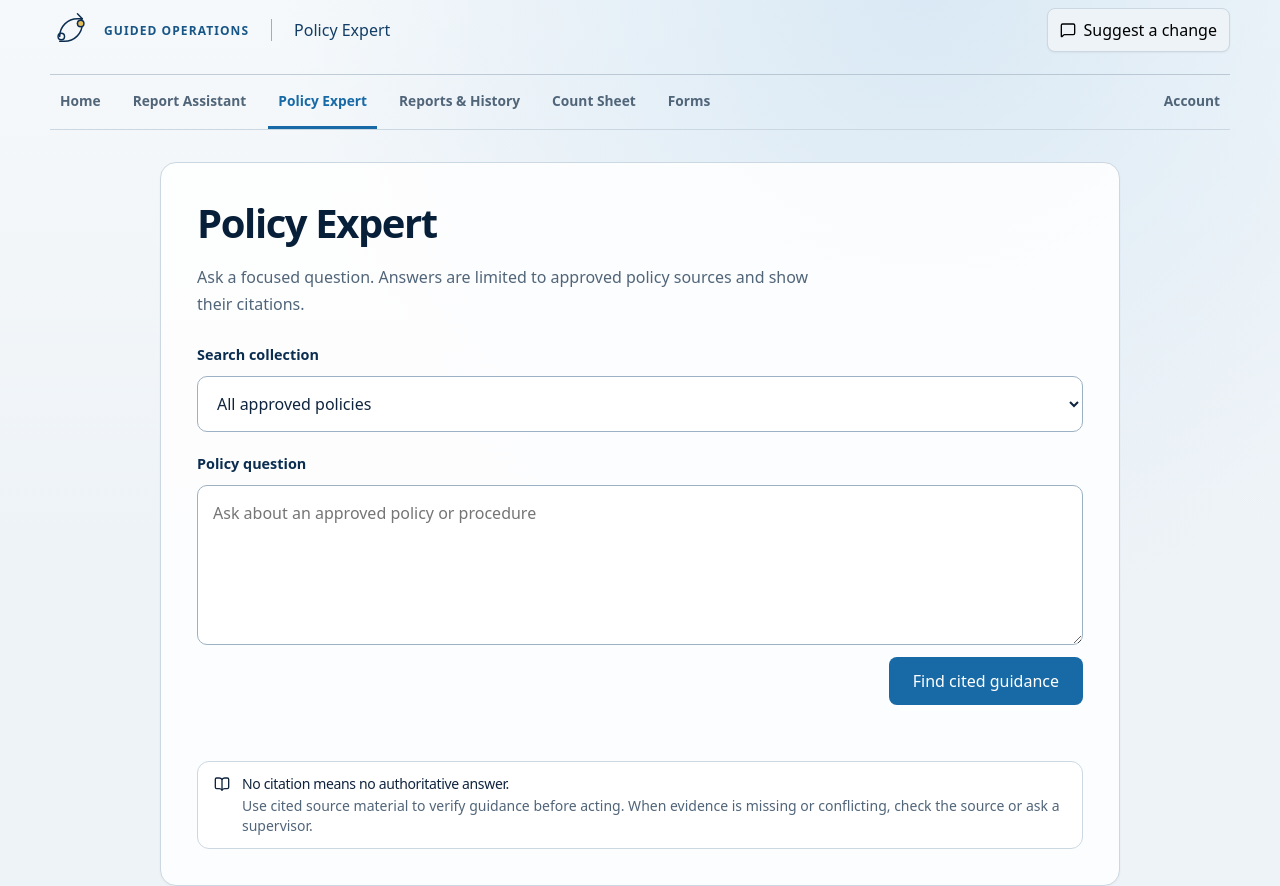
it: PolicyExpert › gets a session CSRF token before submitting a same-origin policy question
Type "What does the fictional policy require?" into the text box labelled "Policy question" at [640, 565], box [197,485,1083,645]
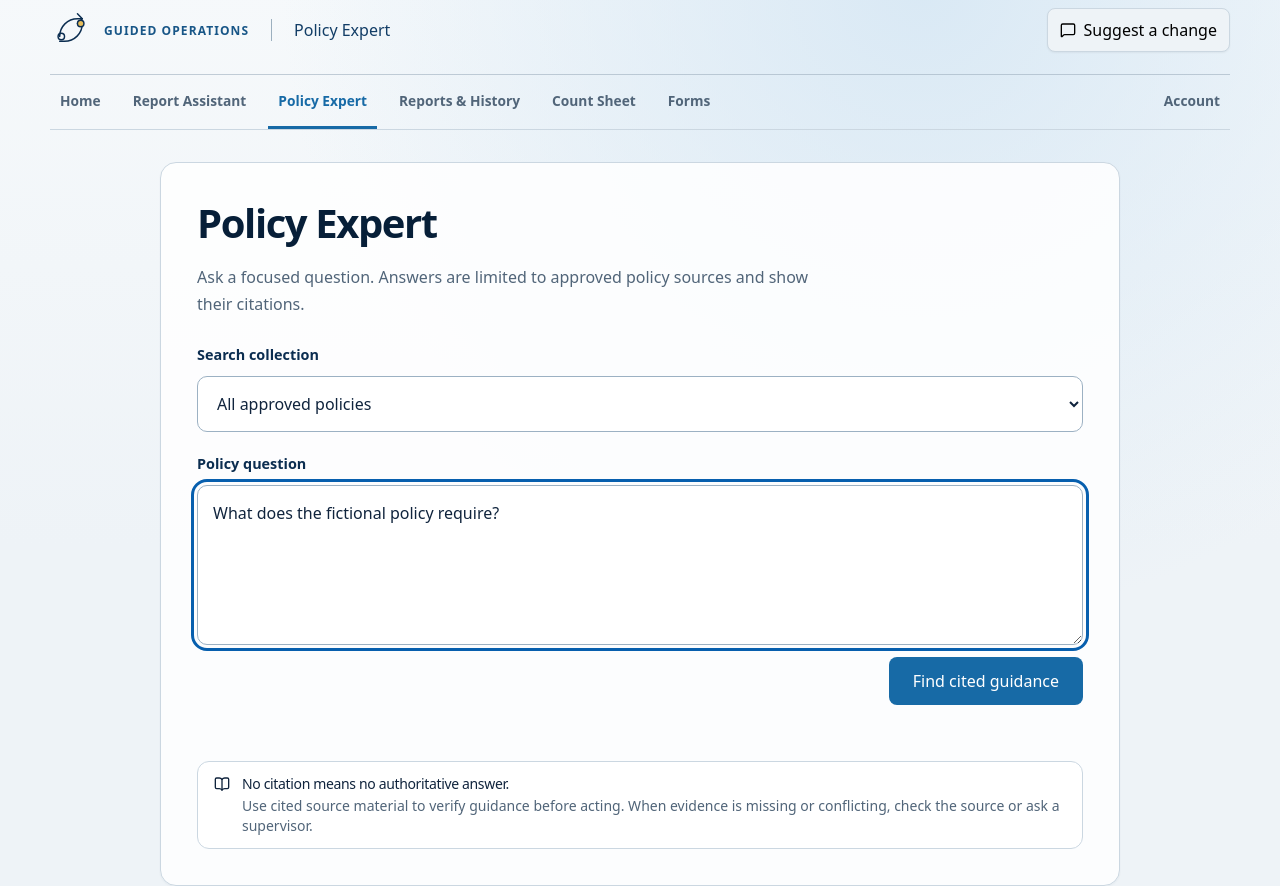
Click the button "Find cited guidance" at [986, 681], box [889,657,1083,705]
(page scrolled)
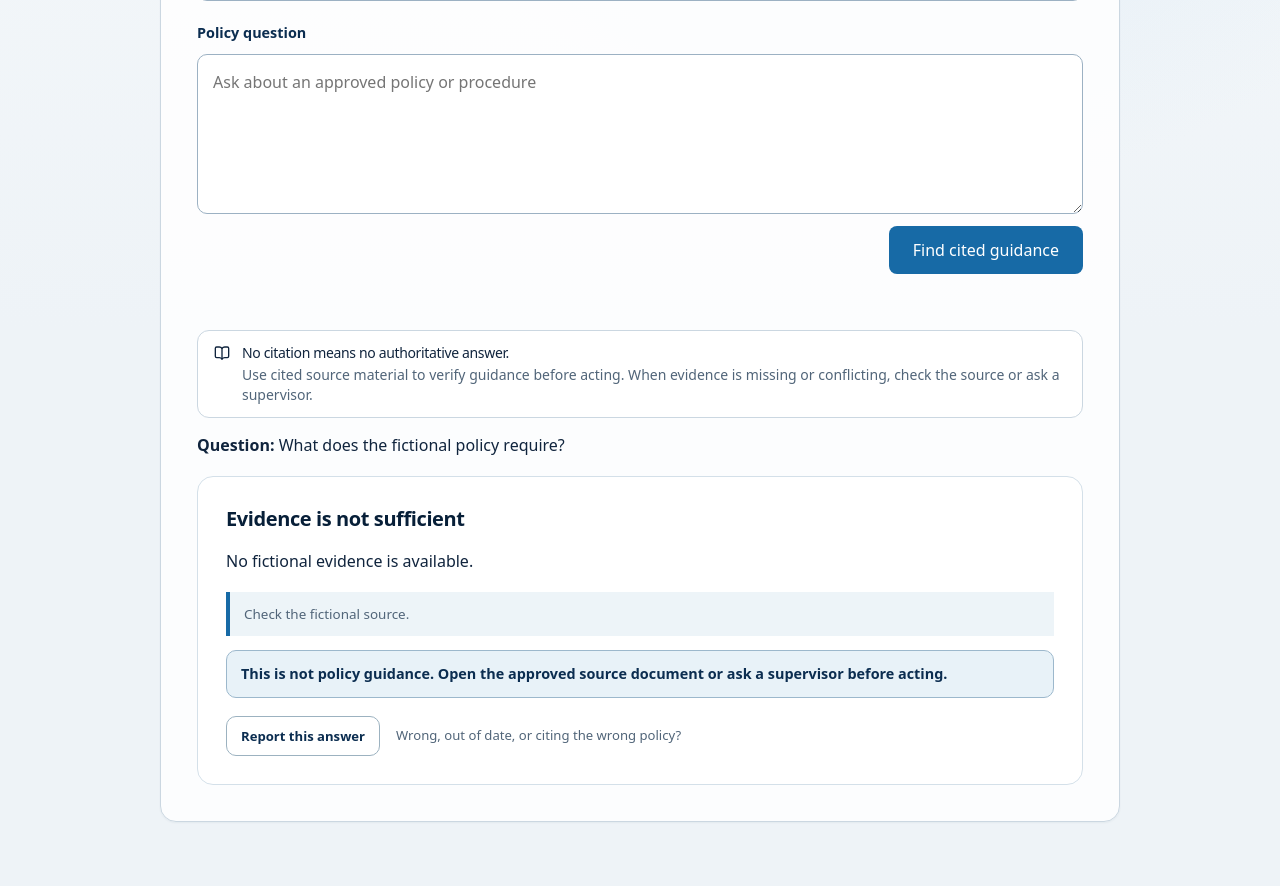
Expected: the heading "Evidence is not sufficient" is shown, [226,505,464,532]
Expected: the text "No fictional evidence is available." is shown, [226,550,473,572]
Expected: the text "This is not policy guidance. Open the approved source document or ask a supervisor" is shown, [241,664,947,683]
